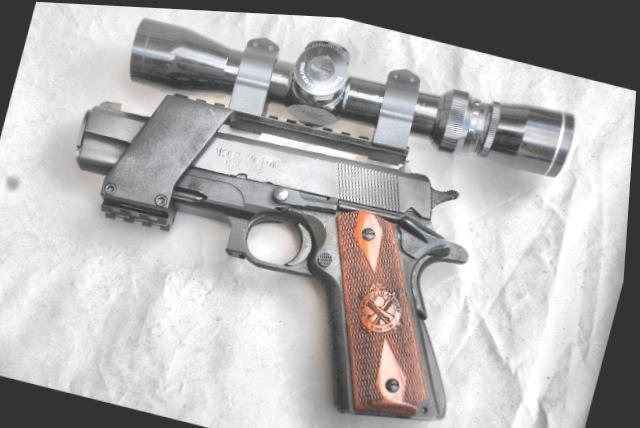pistol: (11, 78, 515, 428)
